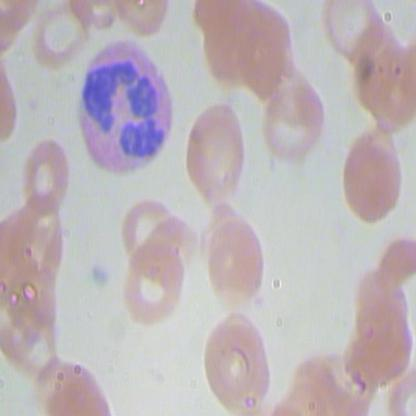Platelets: (86, 253, 111, 295)
RBC: (332, 127, 415, 228), (192, 315, 275, 415), (223, 1, 304, 95), (180, 98, 252, 202), (252, 71, 324, 175), (199, 211, 270, 315), (121, 232, 189, 330), (341, 307, 415, 393), (10, 191, 71, 289), (19, 132, 76, 214), (24, 1, 92, 66), (136, 212, 198, 283), (115, 190, 177, 261), (321, 1, 386, 64), (40, 359, 113, 415), (372, 229, 415, 299)
WBC: (64, 29, 183, 179)
